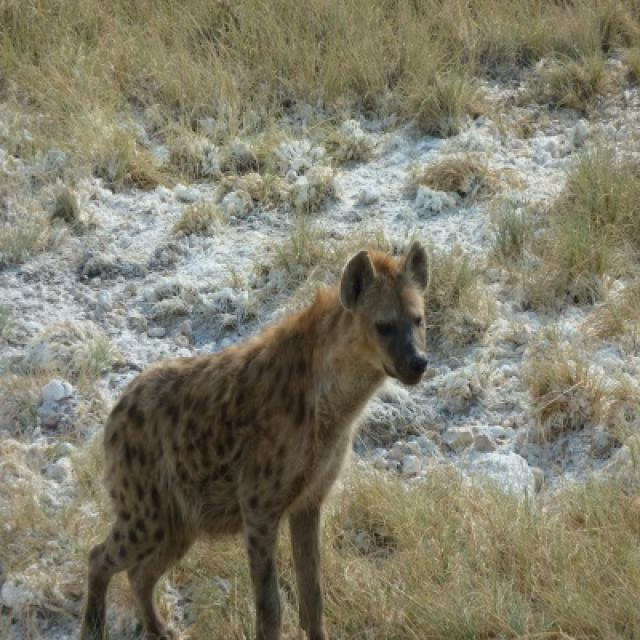hyena: (82, 242, 426, 638)
